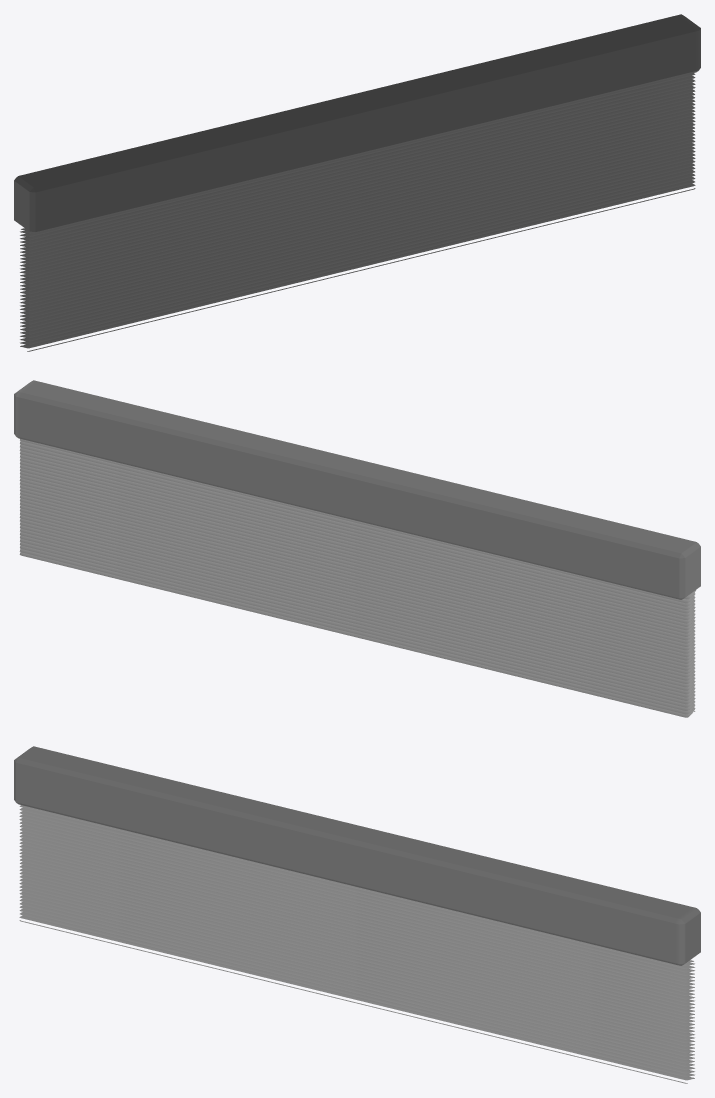
Rendered from Blinds_dc541b5f.obj.
3 views of the same model, one above another, from view 1: azimuth 30°, elevation 25°; view 2: azimuth 150°, elevation 25°; view 3: azimuth 330°, elevation 25° (orthographic).
Parts seen in each view (by area): view 1: BlindMesh_decb758d, BlindFrameMesh_8bf6aad8; view 2: BlindMesh_decb758d, BlindFrameMesh_8bf6aad8; view 3: BlindMesh_decb758d, BlindFrameMesh_8bf6aad8.
Part boxes in pixels (x1,y1,x2,y2): BlindMesh_decb758d: (20,73,695,351); BlindFrameMesh_8bf6aad8: (14,14,700,233); BlindMesh_decb758d: (19,439,695,717); BlindFrameMesh_8bf6aad8: (14,380,700,599); BlindMesh_decb758d: (19,805,694,1083); BlindFrameMesh_8bf6aad8: (14,746,700,965).
Size of the model in its own units: 1.11 by 0.2627 by 0.0564.
